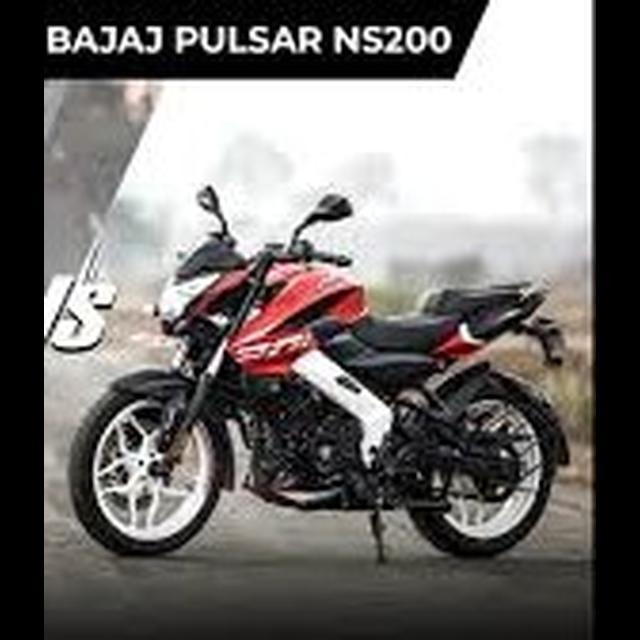motorcycle: (67, 175, 578, 571)
